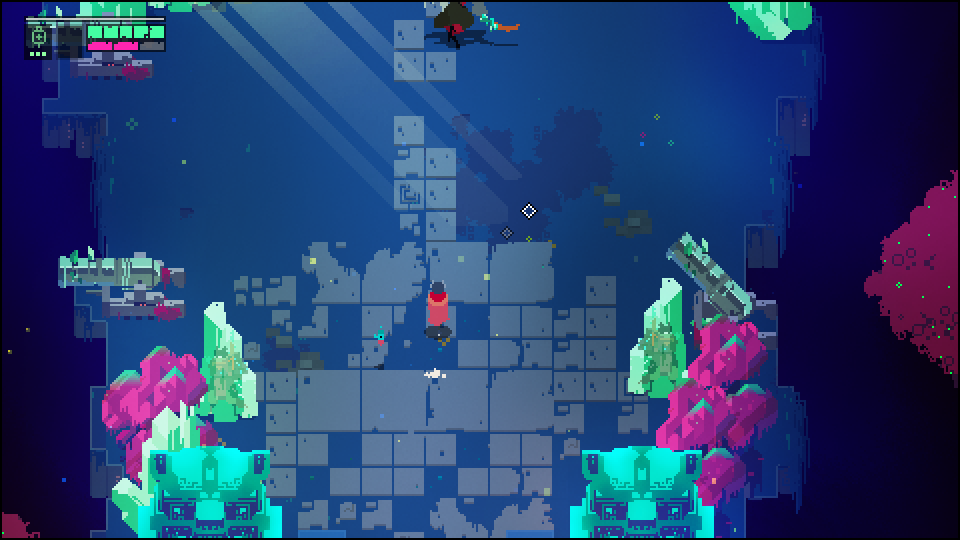player: (424, 279, 452, 330)
